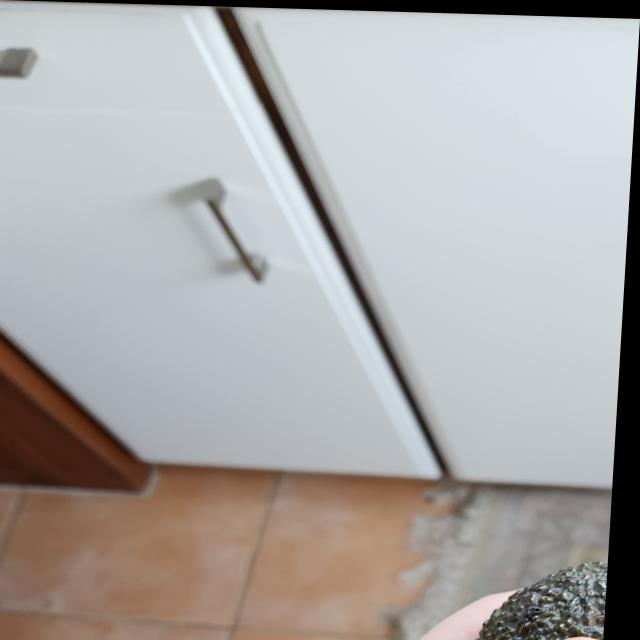avocado: (474, 546, 615, 640)
